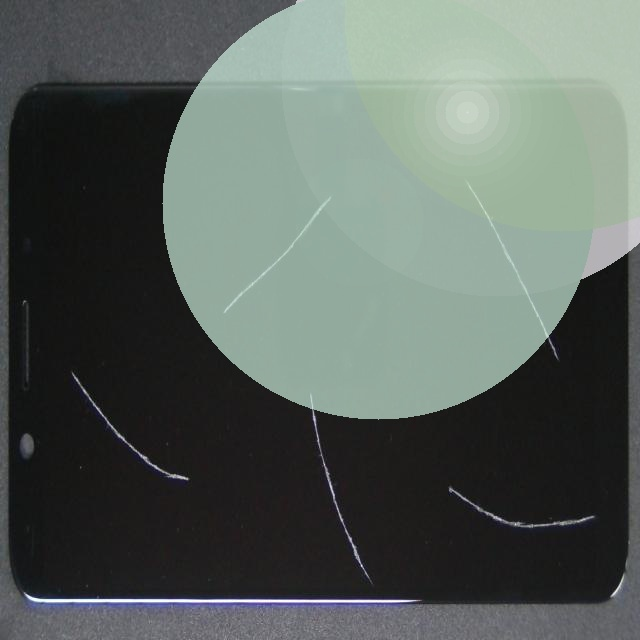scratch: (329, 246, 640, 640), (213, 322, 556, 640), (91, 273, 291, 640), (235, 29, 445, 331), (352, 280, 640, 432)
